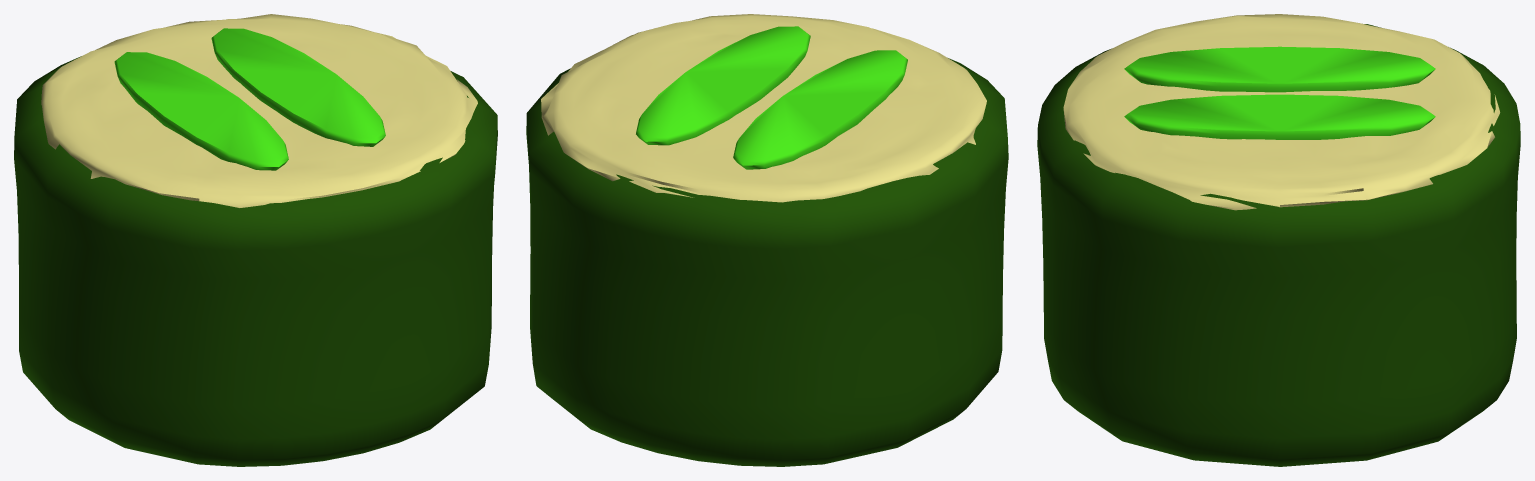
Rendered from SM_Cucumber_Sushi.fbx.
The picture shows the model from 3 angles, left to right: view 1: azimuth 30°, elevation 25°; view 2: azimuth 150°, elevation 25°; view 3: azimuth 270°, elevation 25°; orthographic projection.
Parts seen in each view (by area): view 1: SM_Cucumber_Sushi.001; view 2: SM_Cucumber_Sushi.001; view 3: SM_Cucumber_Sushi.001.
Part boxes in pixels (x1,y1,x2,y2): SM_Cucumber_Sushi.001: (14,14,497,466); SM_Cucumber_Sushi.001: (526,14,1008,466); SM_Cucumber_Sushi.001: (1037,14,1520,466).
Bounding box in the file's own units: 52.79 × 35.88 × 52.79.
